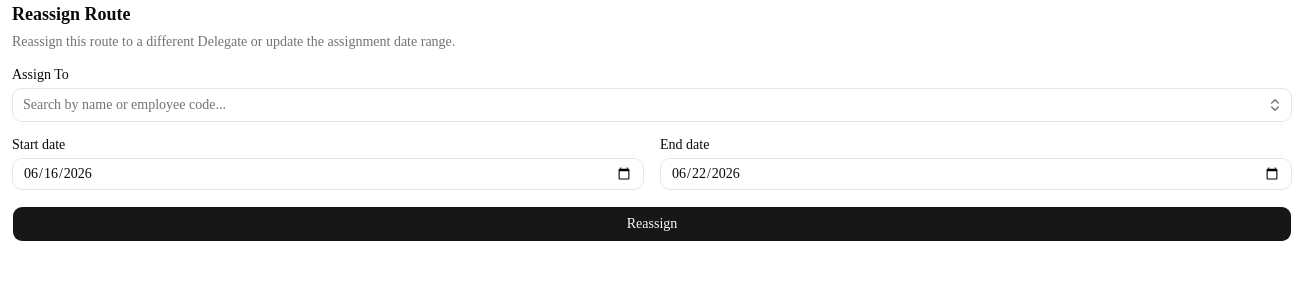
Test case: ReassignForm › won't submit without an assignee
Click the button "Reassign" at (652, 224), box [12,206,1292,242]
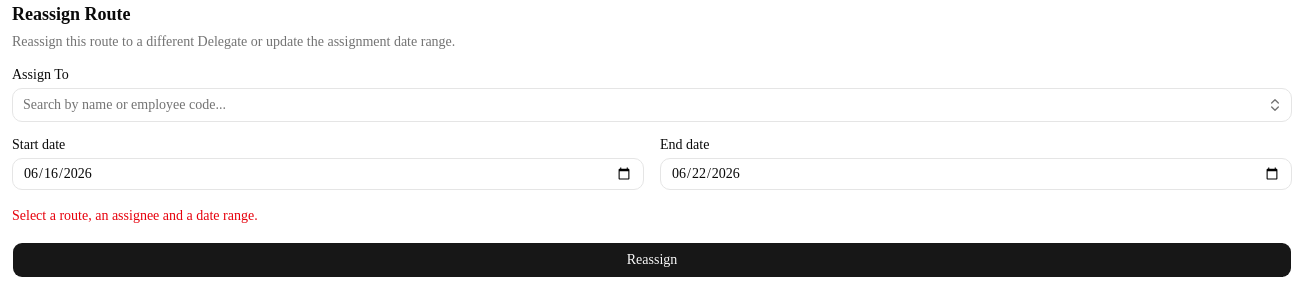
Result: the text "Select a route, an assignee and a date range." is shown at [12,208,258,223]
